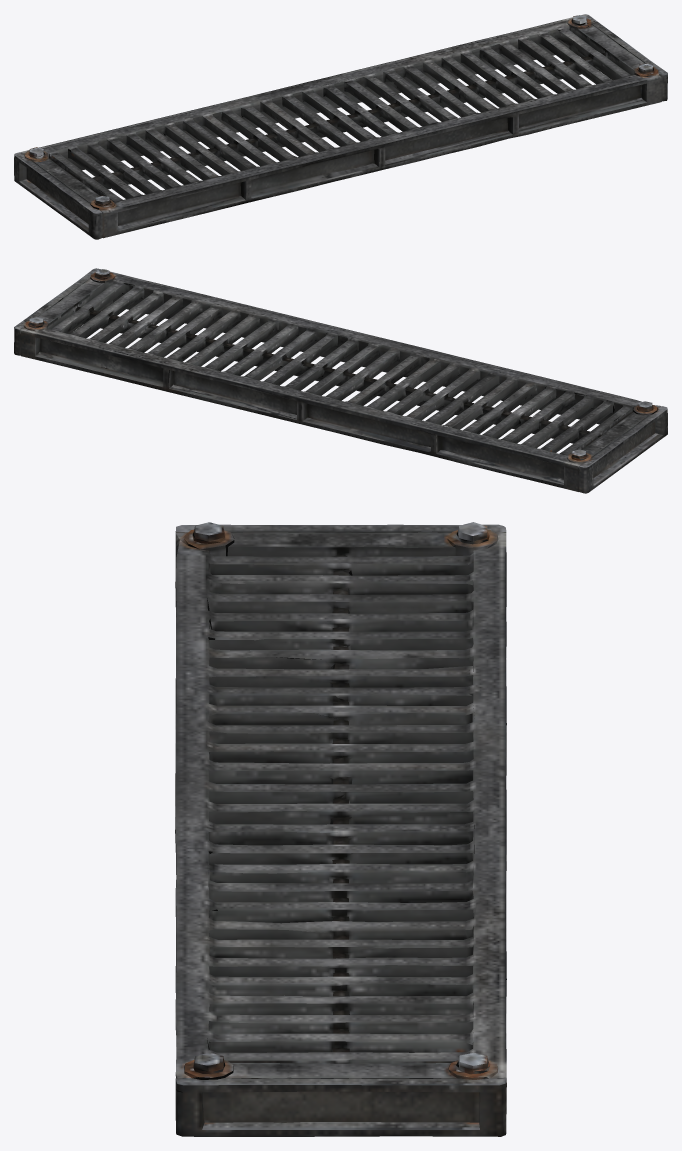
The model's file is drainage-grate.glb.
The picture shows the model from 3 angles, top to bottom: view 1: azimuth 30°, elevation 25°; view 2: azimuth 150°, elevation 25°; view 3: azimuth 270°, elevation 25°; orthographic projection. The views are drawn at different scales.
Parts seen in each view (by area): view 1: drainage-grate; view 2: drainage-grate; view 3: drainage-grate.
Part boxes in pixels (x1,y1,x2,y2): drainage-grate: [14, 14, 667, 239]; drainage-grate: [14, 268, 667, 493]; drainage-grate: [175, 522, 506, 1136].
Bounding box in the file's own units: 2 × 0.12 × 0.5.
1 material, 1 textured.
